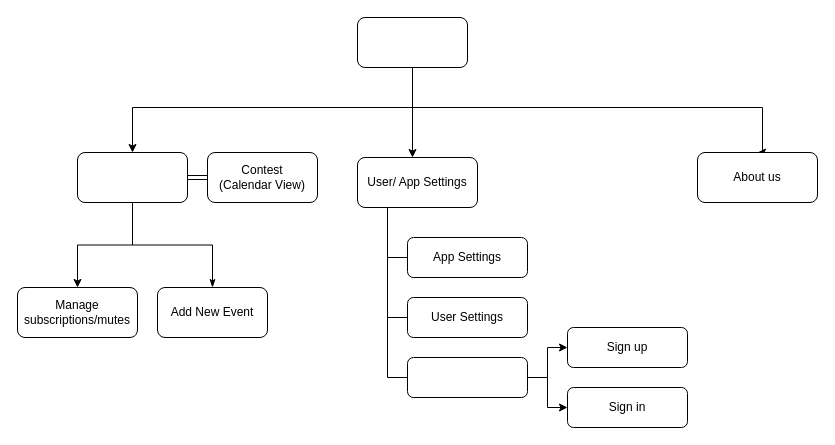
This 835x445 diagram has some shape labels left out. The centre of each missing label's shape, as x and y in pixels:
Contest (Count Down View): pixel 132 177
Home (Default Contest View): pixel 412 42
Sign in/out: pixel 467 377
